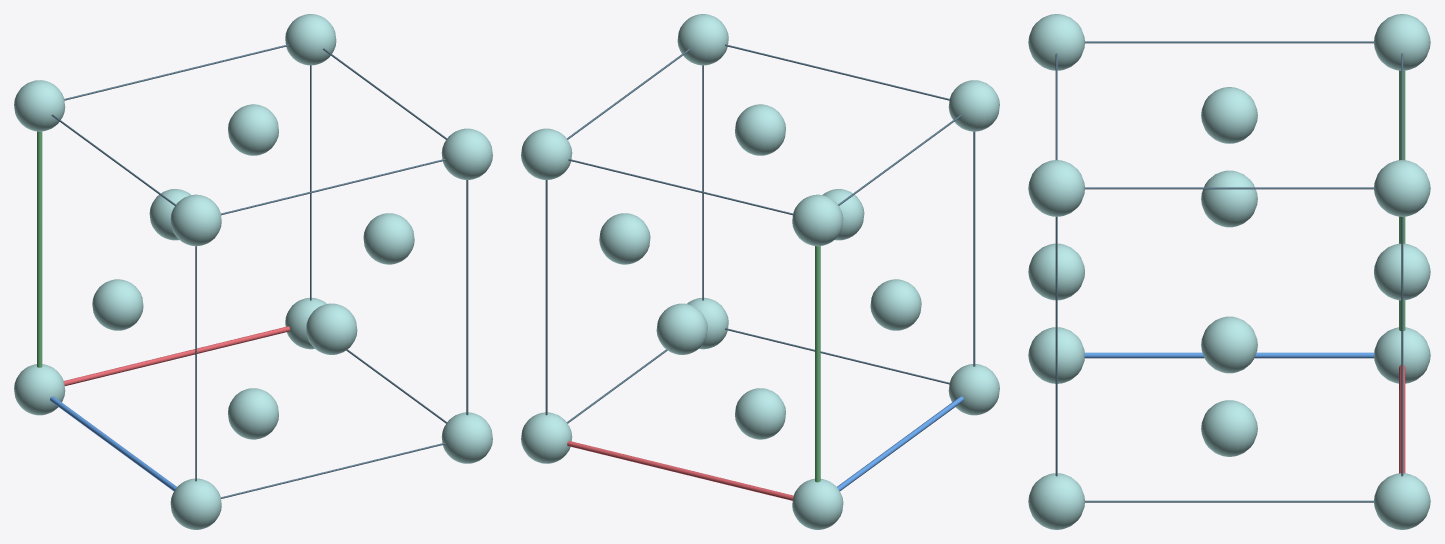
Rendered from nguyen-to-pd.glb.
3 renders of one model, left to right at view 1: azimuth 30°, elevation 25°; view 2: azimuth 150°, elevation 25°; view 3: azimuth 270°, elevation 25°, orthographic. The views are drawn at different scales.
Parts seen in each view (by area): view 1: Pd · Pd · 1 (×14), Ô mạng và các trục a, b, c; view 2: Pd · Pd · 1 (×14), Ô mạng và các trục a, b, c; view 3: Pd · Pd · 1 (×14), Ô mạng và các trục a, b, c.
Part boxes in pixels (x1,y1,x2,y2): Pd · Pd · 1 (×14): [14, 14, 492, 529]; Ô mạng và các trục a, b, c: [37, 44, 468, 498]; Pd · Pd · 1 (×14): [521, 14, 999, 529]; Ô mạng và các trục a, b, c: [545, 44, 975, 500]; Pd · Pd · 1 (×14): [1028, 14, 1430, 529]; Ô mạng và các trục a, b, c: [1055, 41, 1405, 502].
Size of the model in its own units: 4.53 by 4.53 by 4.53.
